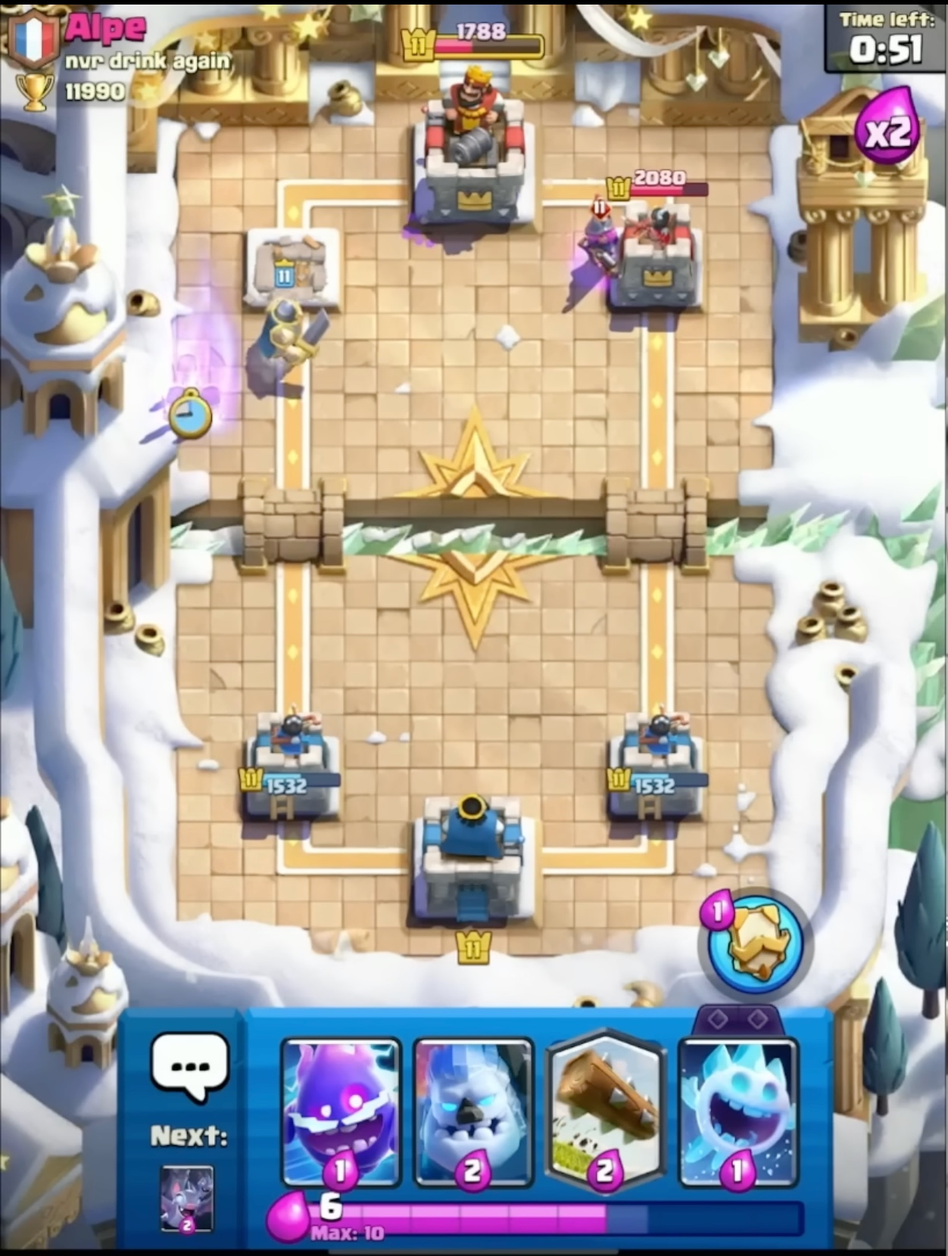evo-musketeer: (574, 189, 628, 290)
